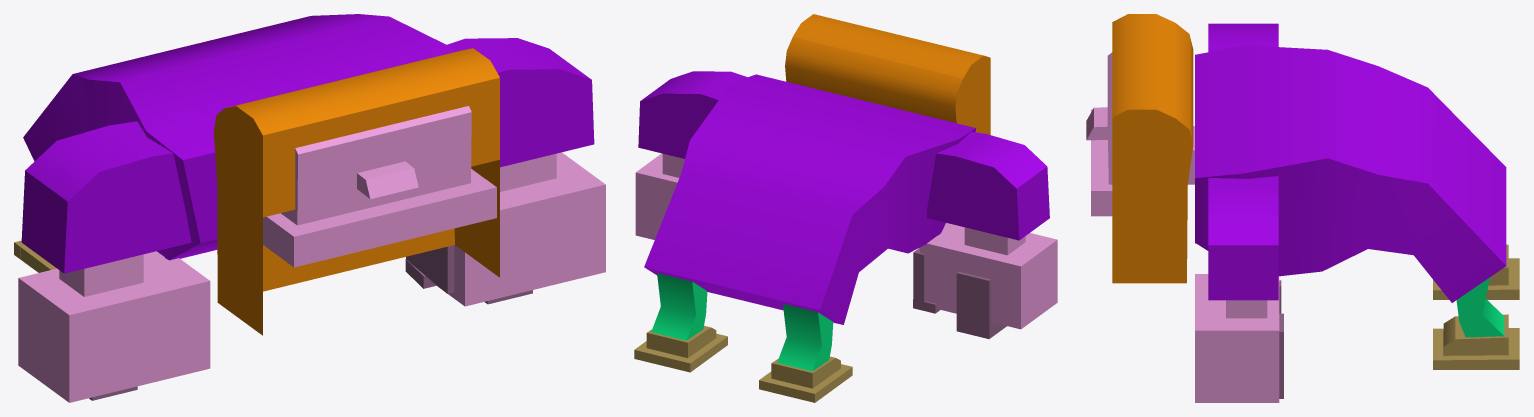
Rendered from CharV4.fbx.
The picture shows the model from 3 angles, left to right: view 1: azimuth 30°, elevation 25°; view 2: azimuth 150°, elevation 25°; view 3: azimuth 270°, elevation 25°; orthographic projection. The views are drawn at different scales.
Parts seen in each view (by area): view 1: polySurface37; view 2: polySurface37; view 3: polySurface37.
Part boxes in pixels (left/top/right/bottom): polySurface37: left=14, top=14, right=605, bottom=402; polySurface37: left=634, top=14, right=1057, bottom=402; polySurface37: left=1086, top=14, right=1519, bottom=402.
Bounding box in the file's own units: 32.72 × 18.03 × 27.71.
